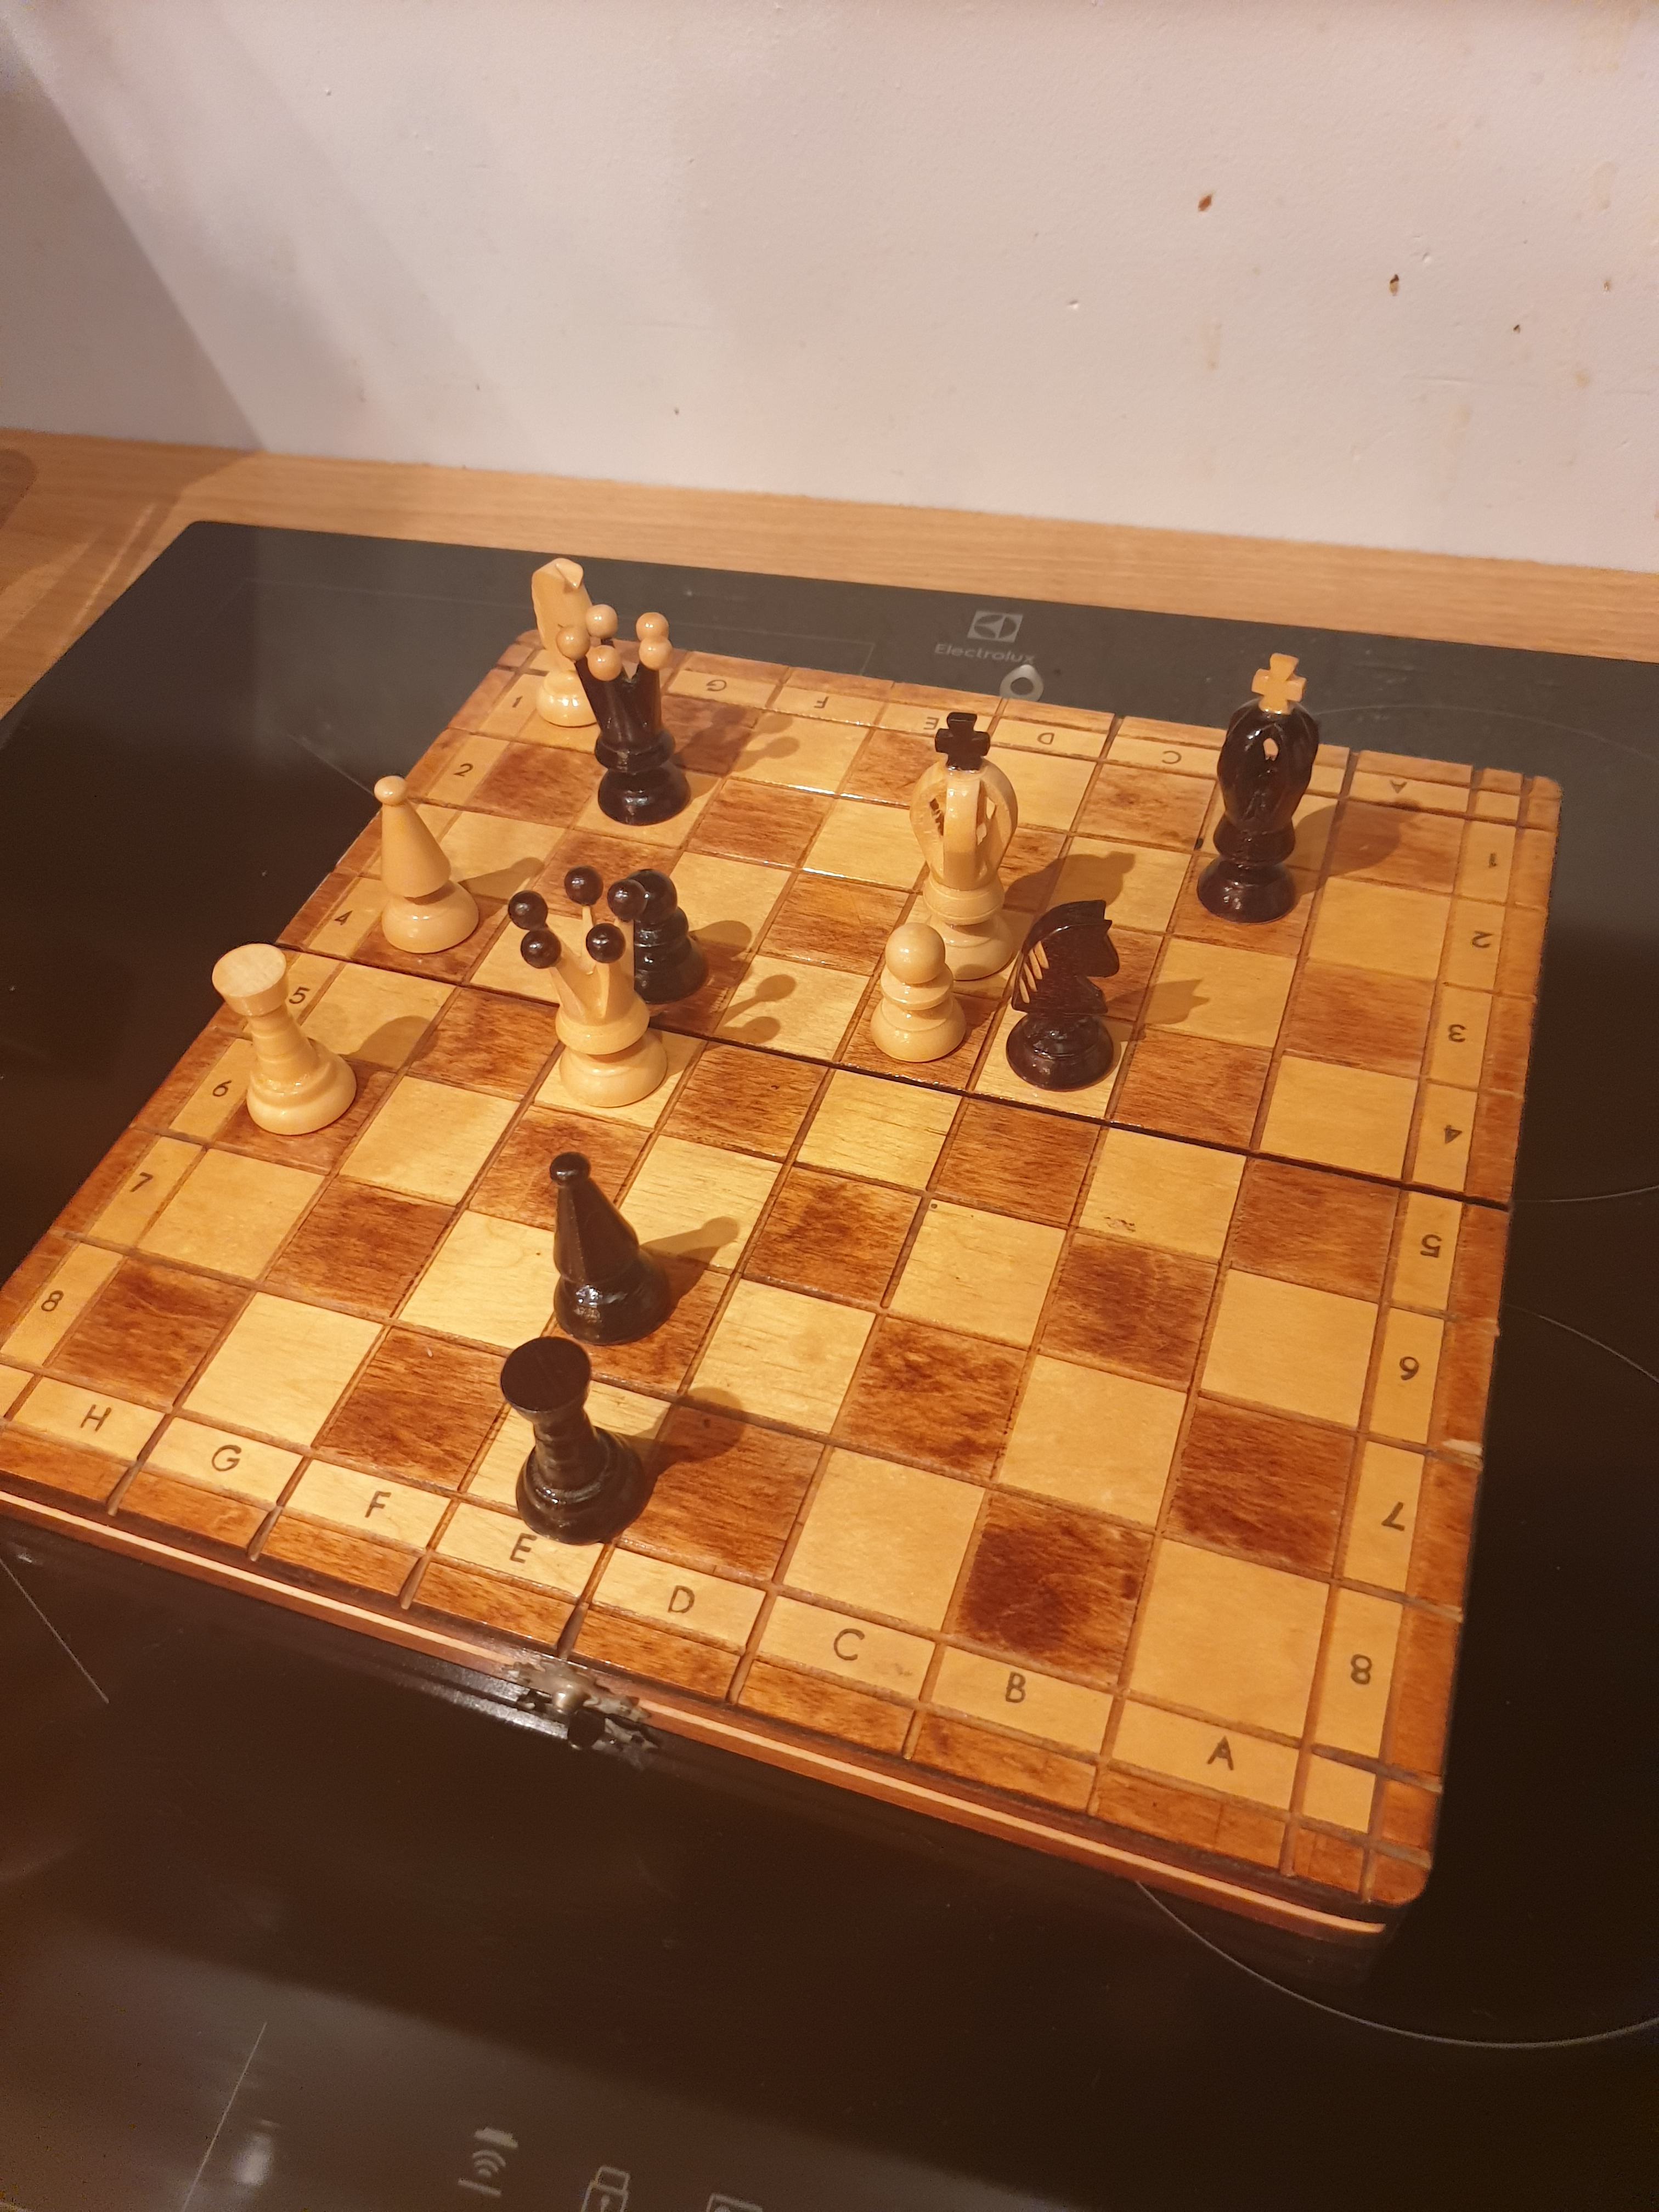bbishop: (530, 1139, 688, 1355)
bking: (1194, 644, 1324, 934)
bknight: (999, 894, 1134, 1101)
bpawn: (608, 855, 718, 1036)
bqueen: (549, 592, 711, 838)
brook: (498, 1334, 666, 1550)
wbishop: (350, 752, 497, 963)
wking: (894, 702, 1039, 1003)
wknight: (521, 549, 620, 735)
wpawn: (854, 911, 985, 1082)
wqueen: (504, 855, 674, 1122)
wrook: (200, 928, 361, 1141)
